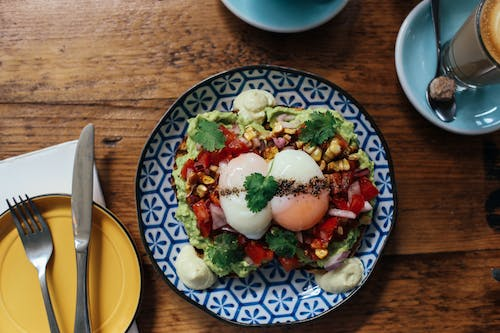knife: (71, 120, 96, 333)
